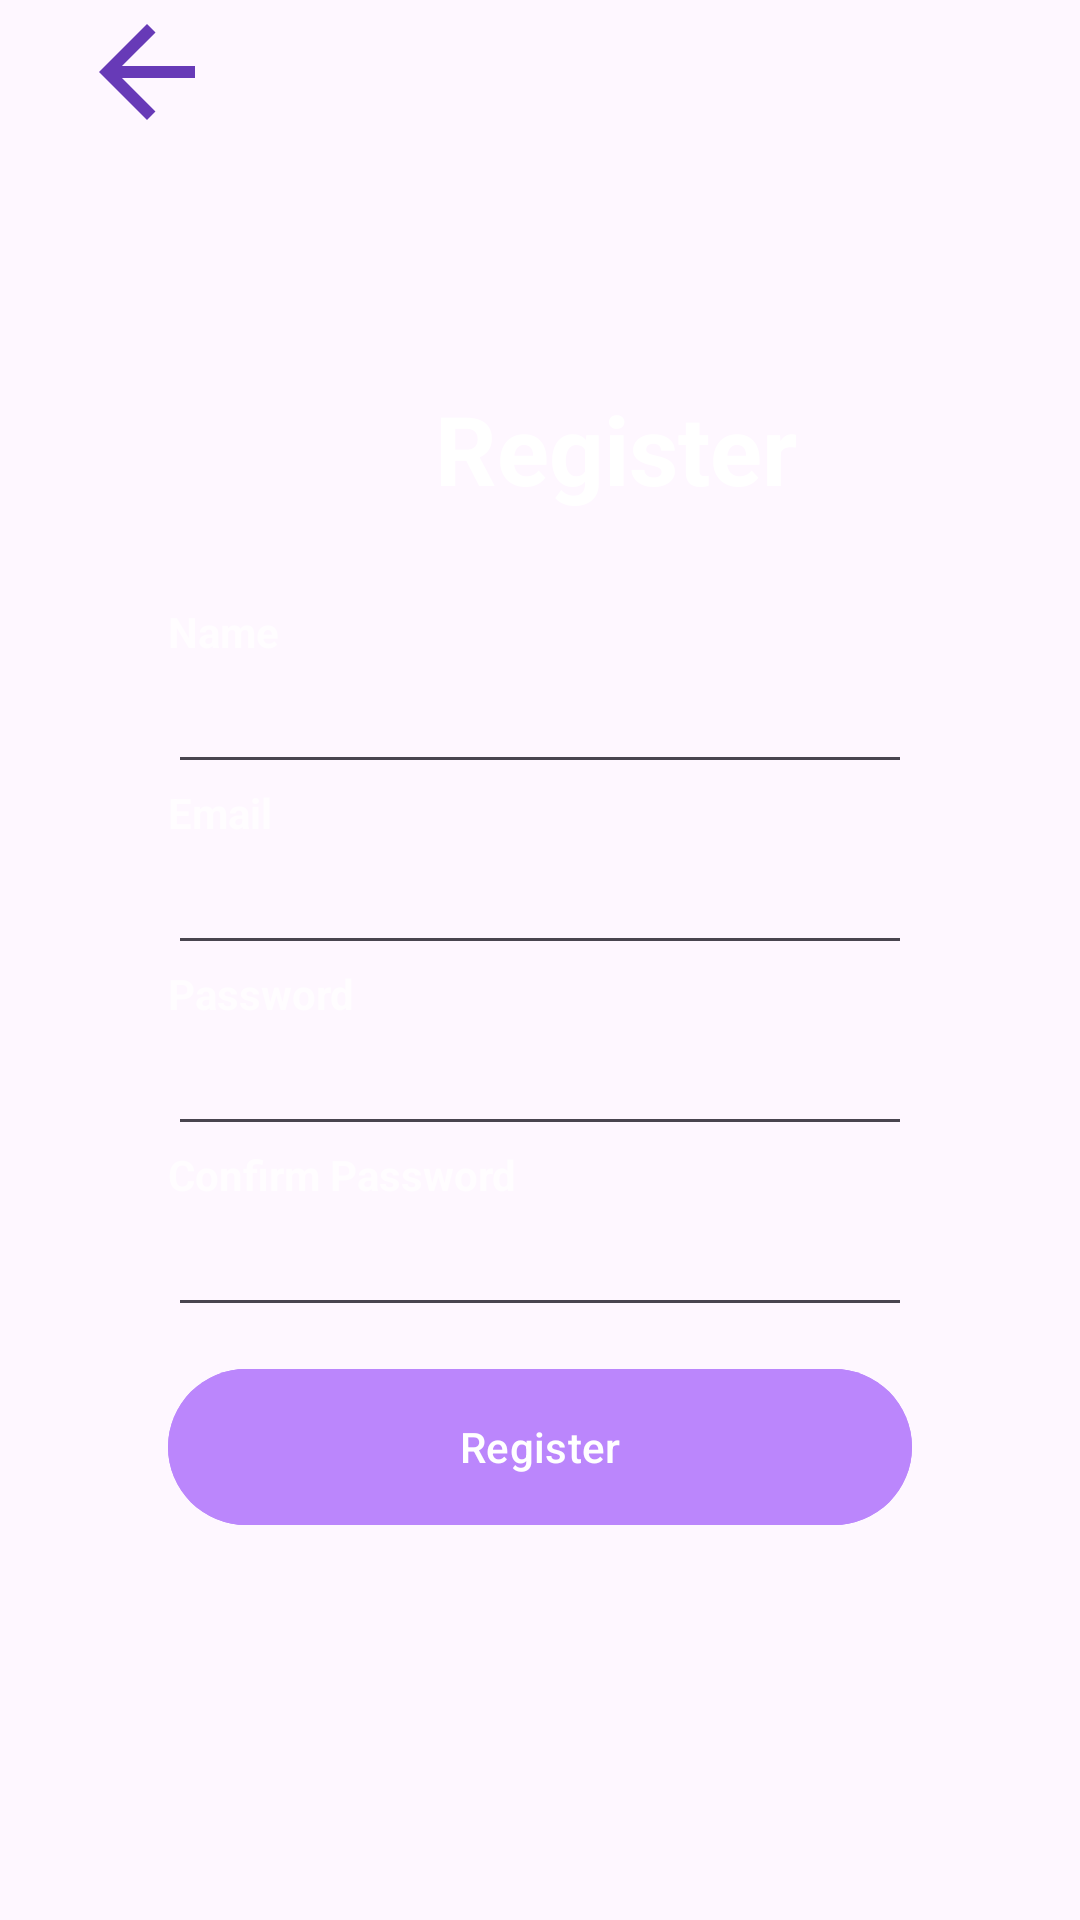

Locate icon controls on the screen. Image size 1080px x 1920px, boxes as (x1, y1, x2, y2).
back: (99, 24, 195, 120)
